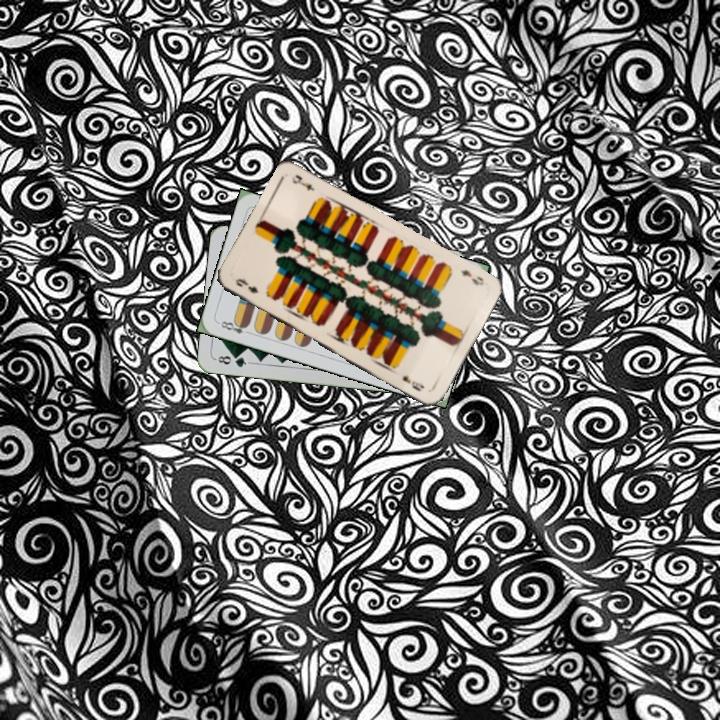E8: (217, 317, 254, 337)
E9: (231, 274, 261, 296), (457, 266, 487, 288)
G8: (212, 351, 252, 370)
